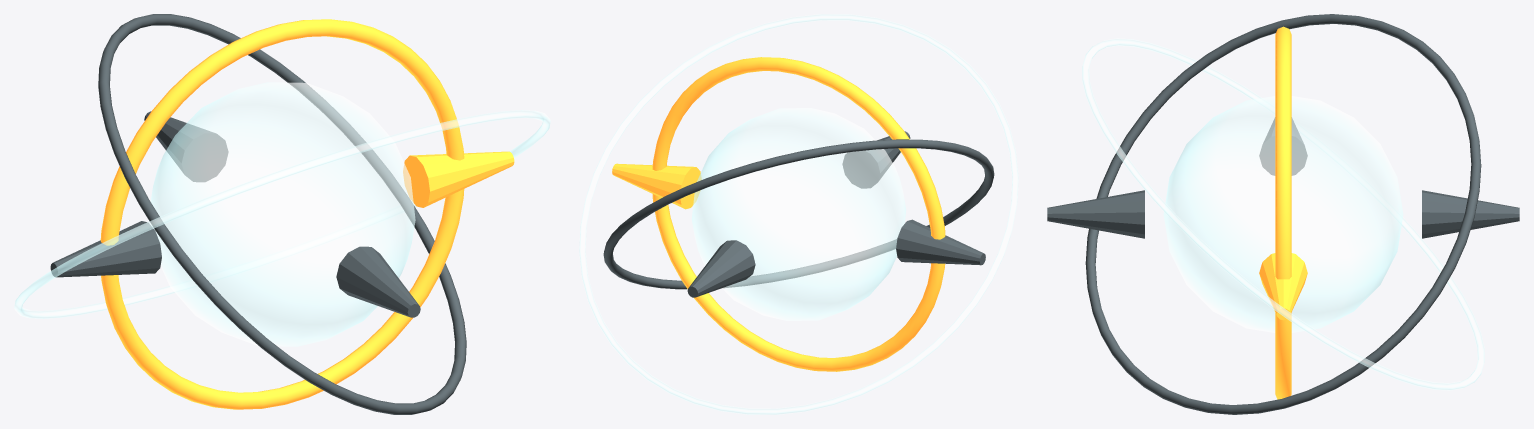
Rendered from orbital-node.glb.
3 views of the same model, side by side, from view 1: azimuth 30°, elevation 25°; view 2: azimuth 150°, elevation 25°; view 3: azimuth 270°, elevation 25° (orthographic). The views are drawn at different scales.
Parts seen in each view (by area): view 1: NodeCore, NodeOrbit_A, NodeOrbit_B, NodeOrbit_C, NodeRelay_01, NodeRelay_03, NodeRelay_04, NodeRelay_02; view 2: NodeCore, NodeOrbit_A, NodeOrbit_C, NodeOrbit_B, NodeRelay_03, NodeRelay_02, NodeRelay_01, NodeRelay_04; view 3: NodeCore, NodeOrbit_B, NodeOrbit_C, NodeOrbit_A, NodeRelay_04, NodeRelay_02, NodeRelay_01, NodeRelay_03.
Boxes of the visible parts, <box> form: NodeCore: <box>150,82,415,346</box>; NodeOrbit_A: <box>100,19,464,409</box>; NodeOrbit_B: <box>98,14,466,414</box>; NodeOrbit_C: <box>14,110,550,318</box>; NodeRelay_01: <box>403,151,514,207</box>; NodeRelay_03: <box>50,221,161,277</box>; NodeRelay_04: <box>336,246,420,317</box>; NodeRelay_02: <box>144,111,228,181</box>; NodeCore: <box>692,108,905,320</box>; NodeOrbit_A: <box>652,57,945,371</box>; NodeOrbit_C: <box>579,14,1018,414</box>; NodeOrbit_B: <box>603,139,994,289</box>; NodeRelay_03: <box>896,219,985,265</box>; NodeRelay_02: <box>687,240,755,297</box>; NodeRelay_01: <box>612,163,701,209</box>; NodeRelay_04: <box>842,131,910,188</box>; NodeCore: <box>1163,96,1403,332</box>; NodeOrbit_B: <box>1085,14,1481,414</box>; NodeOrbit_C: <box>1082,38,1484,390</box>; NodeOrbit_A: <box>1275,26,1291,399</box>; NodeRelay_04: <box>1047,190,1144,238</box>; NodeRelay_02: <box>1422,190,1519,238</box>; NodeRelay_01: <box>1259,253,1307,320</box>; NodeRelay_03: <box>1259,118,1307,175</box>.
Bounding box in the file's own units: 1.36 × 1 × 1.26.
